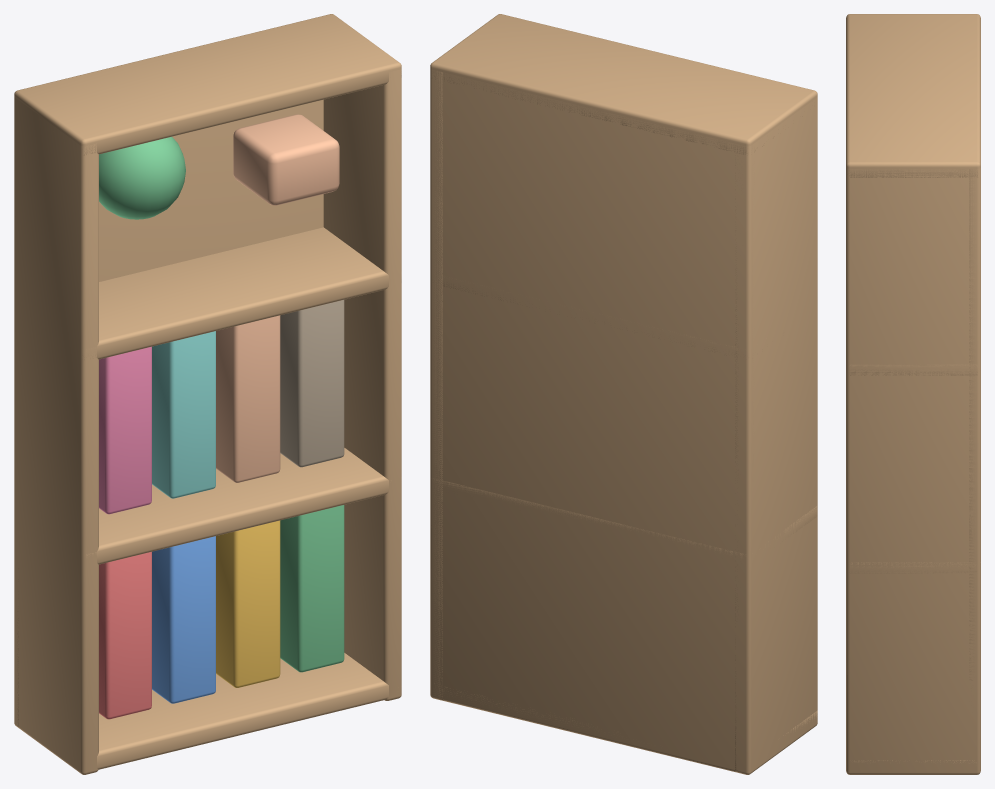
Rendered from shelf.glb.
The picture shows the model from 3 angles, left to right: view 1: azimuth 30°, elevation 25°; view 2: azimuth 150°, elevation 25°; view 3: azimuth 270°, elevation 25°; orthographic projection. The views are drawn at different scales.
Visible parts, largest first — view 1: shelf; view 2: shelf; view 3: shelf.
Boxes of the visible parts, x1,y1,x2,y2 form: shelf: (14, 14, 401, 774); shelf: (430, 14, 817, 774); shelf: (846, 14, 980, 774).
Size of the model in its own units: 0.9 by 1.7 by 0.34.
